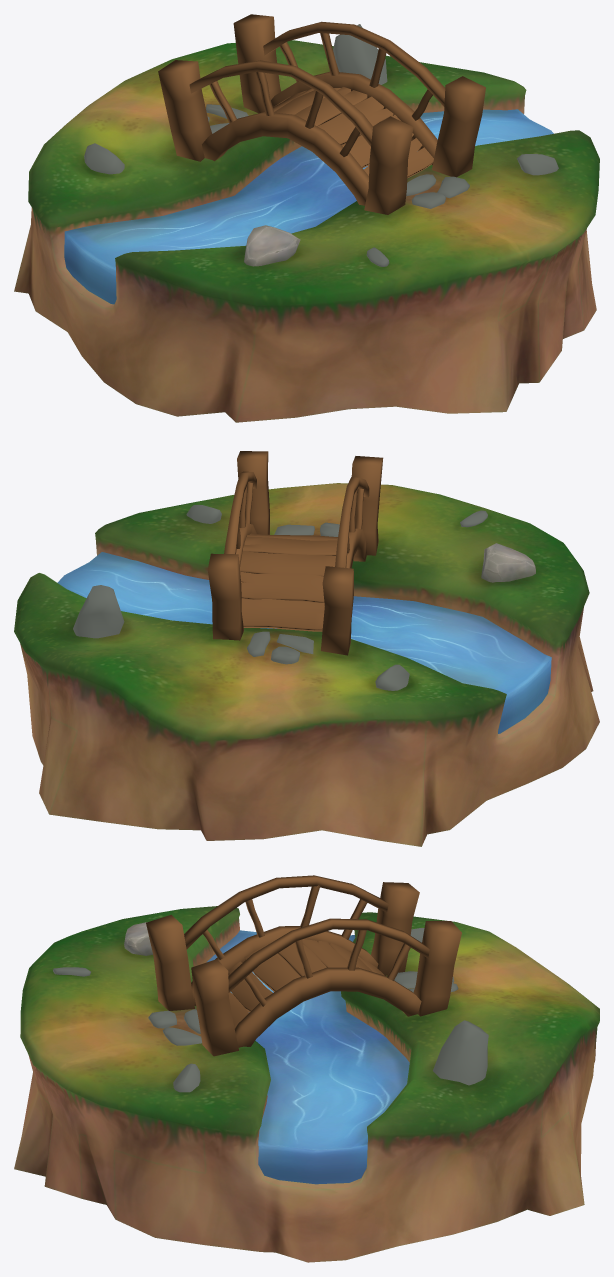
File: island.gltf
3 views of the same model, one above another, from view 1: azimuth 30°, elevation 25°; view 2: azimuth 150°, elevation 25°; view 3: azimuth 270°, elevation 25° (orthographic). The views are drawn at different scales.
Visible parts, largest first — view 1: Cylinder, Cylinder.001, Vert.001, Cube, Cube.001, Cube.003, Cube.002, Vert.002, Vert.003, Vert, Icosphere.002, Icosphere.001 (+5 smaller); view 2: Cylinder, Cylinder.001, Cube.002, Cube.003, Cube.004, Cube.005, Icosphere.001, Cube.006, Cube.001, Cube, Icosphere.002, Cube.007 (+4 smaller); view 3: Cylinder, Cylinder.001, Vert, Cube.001, Cube, Cube.002, Vert.003, Vert.002, Icosphere.001, Cube.003, Vert.001, Cube.008 (+6 smaller).
Boxes of the visible parts, x1,y1,x2,y2 form: Cylinder: (14, 40, 599, 422); Cylinder.001: (64, 109, 553, 304); Vert.001: (202, 112, 368, 205); Cube: (432, 76, 485, 177); Cube.001: (364, 116, 413, 214); Cube.003: (158, 60, 212, 161); Cube.002: (233, 14, 281, 113); Vert.002: (189, 60, 372, 146); Vert.003: (263, 21, 445, 106); Vert: (271, 71, 437, 164); Icosphere.002: (244, 225, 300, 266); Icosphere.001: (333, 24, 387, 84); Cylinder: (14, 483, 599, 846); Cylinder.001: (57, 552, 551, 733); Cube.002: (207, 553, 243, 640); Cube.003: (321, 566, 353, 655); Cube.004: (241, 599, 324, 631); Cube.005: (240, 571, 324, 602); Icosphere.001: (73, 585, 124, 638); Cube.006: (240, 551, 335, 576); Cube.001: (351, 456, 383, 555); Cube: (237, 451, 269, 534); Icosphere.002: (481, 543, 535, 582); Cube.007: (243, 537, 337, 555); Cylinder: (14, 906, 599, 1262); Cylinder.001: (206, 930, 409, 1184); Vert: (234, 967, 421, 1047); Cube.001: (146, 914, 194, 1010); Cube: (191, 959, 238, 1056); Cube.002: (413, 921, 461, 1016); Vert.003: (228, 918, 429, 992); Vert.002: (184, 875, 388, 949); Icosphere.001: (433, 1020, 488, 1085); Cube.003: (371, 882, 419, 975); Vert.001: (191, 926, 378, 1005); Cube.008: (244, 944, 300, 991).
Size of the model in its own units: 10.13 by 5.04 by 10.53.
Materials: 3 (3 with a texture image).
